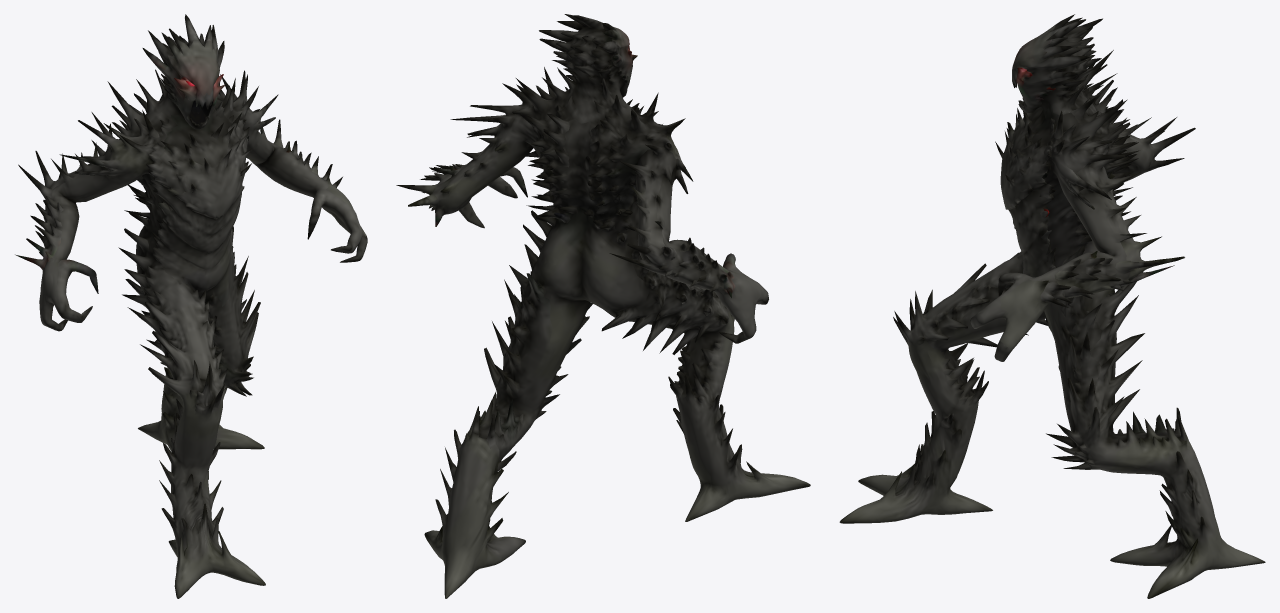
Rendered from MZ4250 - Needle Blight_2025.glb.
3 renders of one model, left to right at view 1: azimuth 30°, elevation 25°; view 2: azimuth 150°, elevation 25°; view 3: azimuth 270°, elevation 25°, orthographic. The views are drawn at different scales.
Visible parts, largest first — view 1: Body.002; view 2: Body.002; view 3: Body.002.
Part boxes in pixels (bbox=[...]): Body.002: bbox=[15, 14, 367, 598]; Body.002: bbox=[396, 14, 810, 598]; Body.002: bbox=[839, 14, 1265, 598].
Bounding box in the file's own units: 60.54 × 91.01 × 66.8.
1 material, 1 textured.
